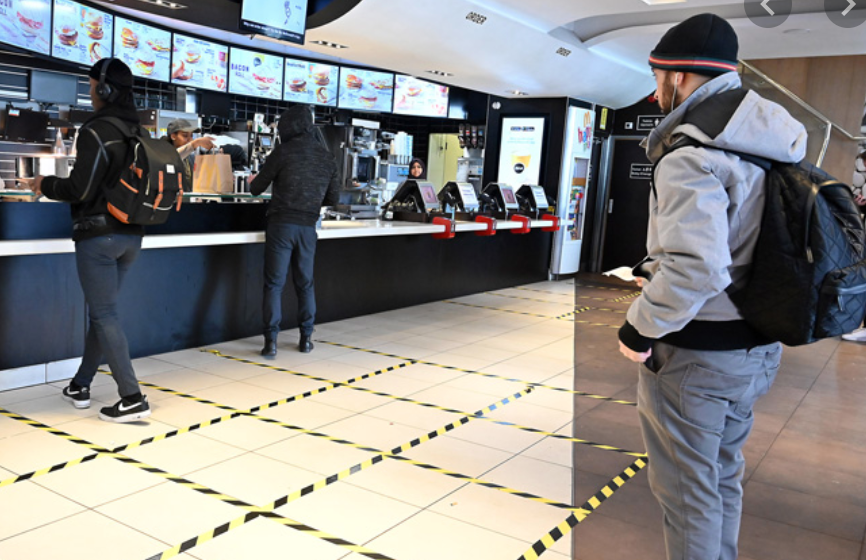Good: (249, 13, 791, 560), (22, 55, 337, 426), (167, 95, 337, 252)
